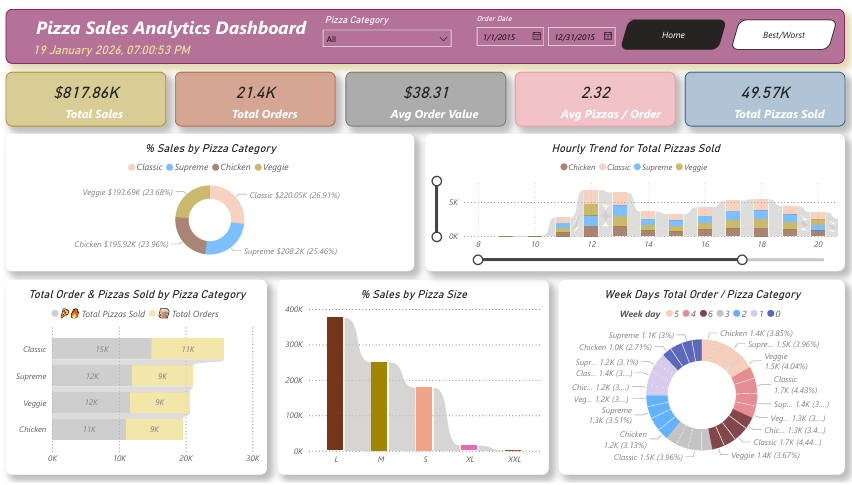

What the dashboard file says about the page in this screenshot:
{"tool":"powerbi","page":{"name":"Page 1","canvas":[1280,720],"ordinal":0},"visuals":[{"type":"card","fields":{"Values":["pizza_sales.Total_Revenue"]},"box":[10.3,104.3,241,82.3],"z":0},{"type":"donutChart","title":"% Sales by Pizza Category","fields":{"Category":["pizza_sales.pizza_category"],"Y":["pizza_sales.💰 Total Sales"]},"box":[10.3,196.9,612.7,205.7],"z":0,"group":"g1"},{"type":"textbox","box":[10.3,10.3,1259.3,82.3],"z":1000},{"type":"ribbonChart","title":"% Sales by Pizza Size","fields":{"Category":["pizza_sales.pizza_size"],"Y":["pizza_sales.💰 Total Sales"]},"box":[418.8,415.8,407,292.4],"z":1000,"group":"g1"},{"type":"card","fields":{"Values":["pizza_sales.Total Orders"]},"box":[264.5,104.3,241,82.3],"z":2000},{"type":"barChart","title":"Total Order & Pizzas Sold by Pizza Category","fields":{"Category":["pizza_sales.pizza_category"],"Y":["pizza_sales.🍕🔥 Total Pizzas Sold","pizza_sales.📦 Total Orders"]},"box":[10.3,415.8,392.3,292.4],"z":2000,"group":"g1"},{"type":"card","fields":{"Values":["pizza_sales.Avg_Order_Value"]},"box":[520.2,104.3,241,82.3],"z":3000},{"type":"ribbonChart","title":"Hourly Trend for Total Pizzas Sold","fields":{"Category":["pizza_sales.hour"],"Y":["pizza_sales.🍕🔥 Total Pizzas Sold"],"Series":["pizza_sales.pizza_category"]},"box":[640.7,196.9,628.9,205.7],"z":3000,"group":"g1"},{"type":"card","fields":{"Values":["pizza_sales.Avg Pizzas / Order"]},"box":[774.4,104.3,241,82.3],"z":4000},{"type":"pieChart","title":"Week Days Total Order / Pizza Category","fields":{"Category":["pizza_sales.week_day"],"Y":["pizza_sales.📦 Total Orders"],"Series":["pizza_sales.pizza_category"]},"box":[840.5,415.8,429.1,292.4],"z":4000,"group":"g1"},{"type":"card","fields":{"Values":["pizza_sales.Total_Quantity"]},"box":[1028.6,104.3,241,82.3],"z":5000},{"type":"slicer","fields":{"Values":["pizza_sales.pizza_category"]},"box":[476.1,13.2,213.1,74.9],"z":6000},{"type":"slicer","fields":{"Values":["pizza_sales.order_date"]},"box":[703.8,13.2,227.8,74.9],"z":7000},{"type":"card","fields":{"Values":["pizza_sales.🕒 Current"]},"box":[32.3,51.4,273.3,41.1],"z":8000},{"type":"group","id":"g1","title":"Home","box":[10.3,196.9,1259.3,511.3],"z":9000},{"type":"bookmarkNavigator","box":[931.6,26.4,326.2,45.6],"z":11000}]}

Visuals, with their boxes in screenshot pixels (x1, y1, x2, y2), scaled from the page's 1280x720 canvas onto the 852x485 screenshot:
card - pizza_sales.Total_Revenue: box(7, 70, 167, 126)
"% Sales by Pizza Category" donutChart: box(7, 133, 415, 271)
textbox: box(7, 7, 845, 62)
"% Sales by Pizza Size" ribbonChart: box(279, 280, 550, 477)
card - pizza_sales.Total Orders: box(176, 70, 336, 126)
"Total Order & Pizzas Sold by Pizza Category" barChart: box(7, 280, 268, 477)
card - pizza_sales.Avg_Order_Value: box(346, 70, 507, 126)
"Hourly Trend for Total Pizzas Sold" ribbonChart: box(426, 133, 845, 271)
card - pizza_sales.Avg Pizzas / Order: box(515, 70, 676, 126)
"Week Days Total Order / Pizza Category" pieChart: box(559, 280, 845, 477)
card - pizza_sales.Total_Quantity: box(685, 70, 845, 126)
slicer - pizza_sales.pizza_category: box(317, 9, 459, 59)
slicer - pizza_sales.order_date: box(468, 9, 620, 59)
card - pizza_sales.🕒 Current: box(21, 35, 203, 62)
"Home" group: box(7, 133, 845, 477)
bookmarkNavigator: box(620, 18, 837, 48)
